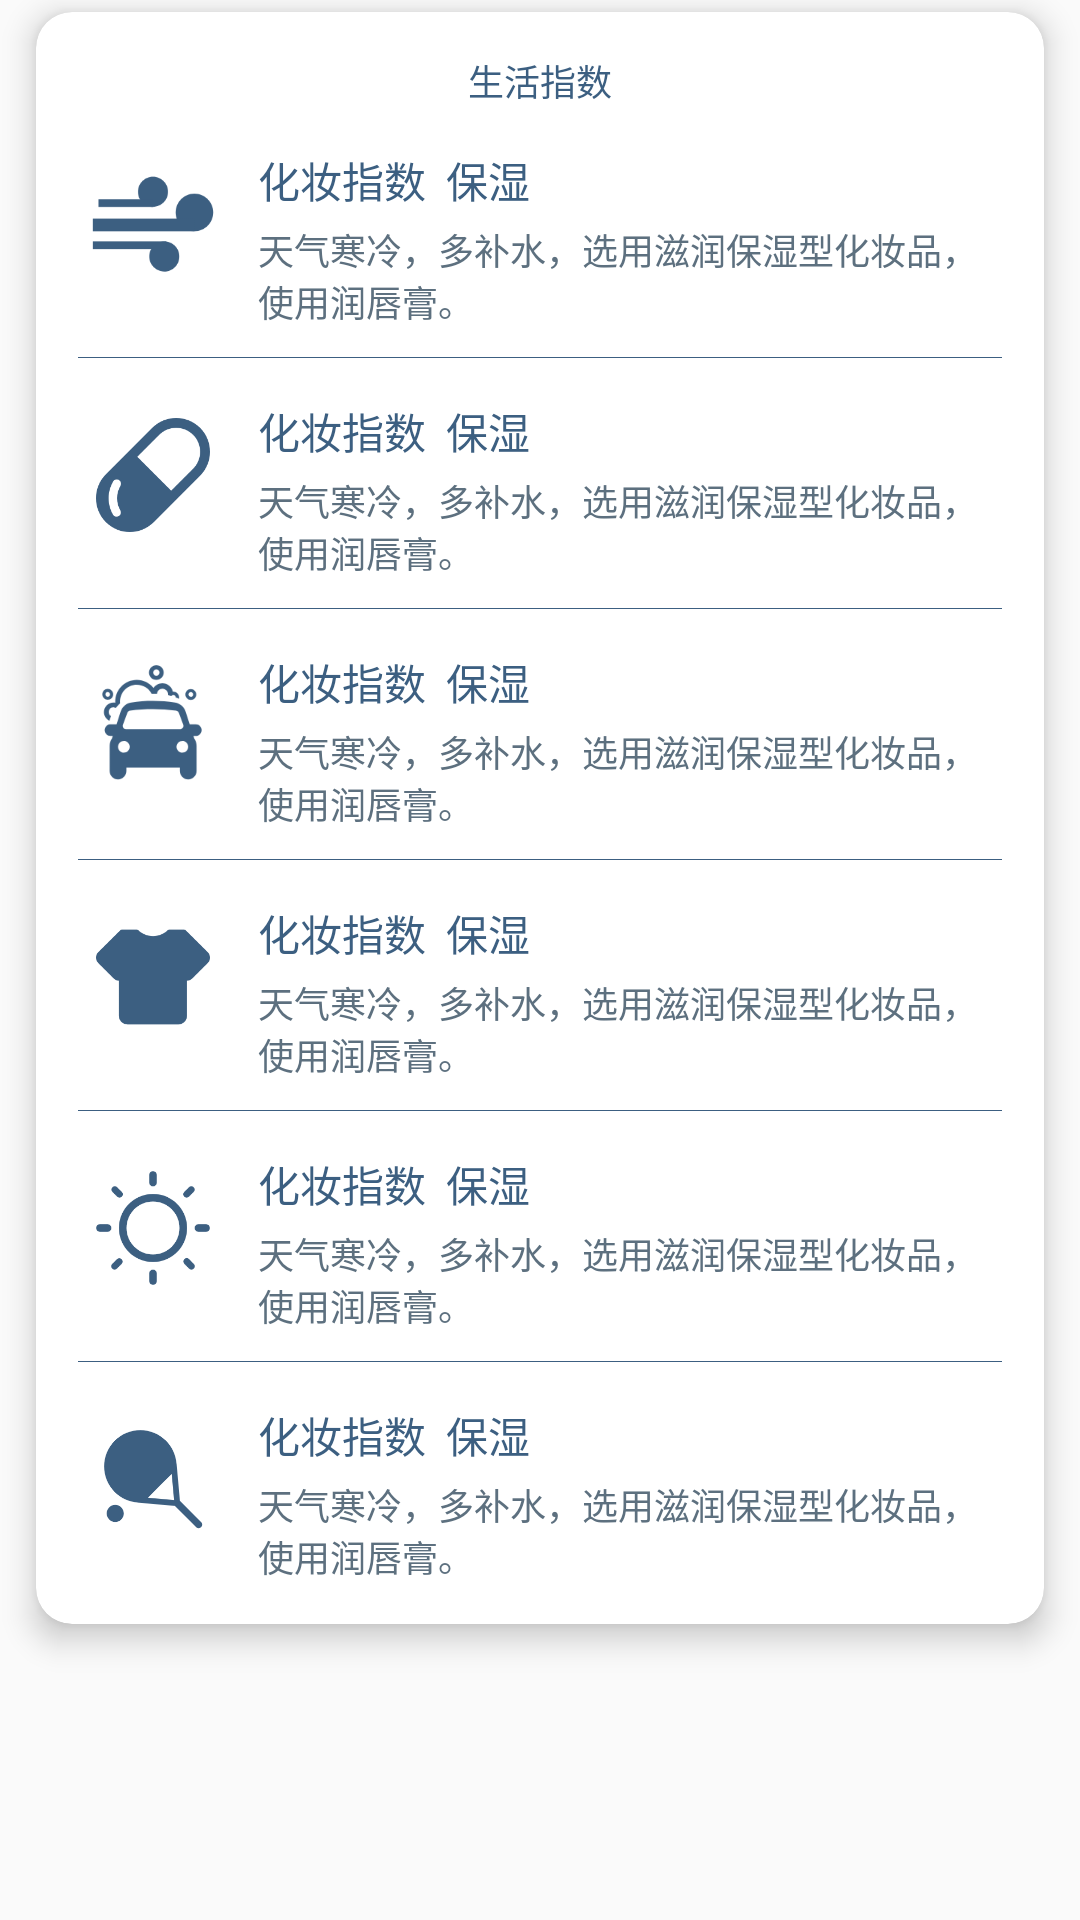

Icon click points for this 1080x1920 phone screenshot, format point (x, y):
air: point (153, 224)
flu: point (153, 475)
sport: point (153, 1479)
